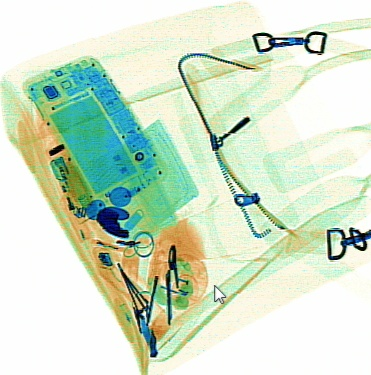lighter: (46, 154, 93, 242)
